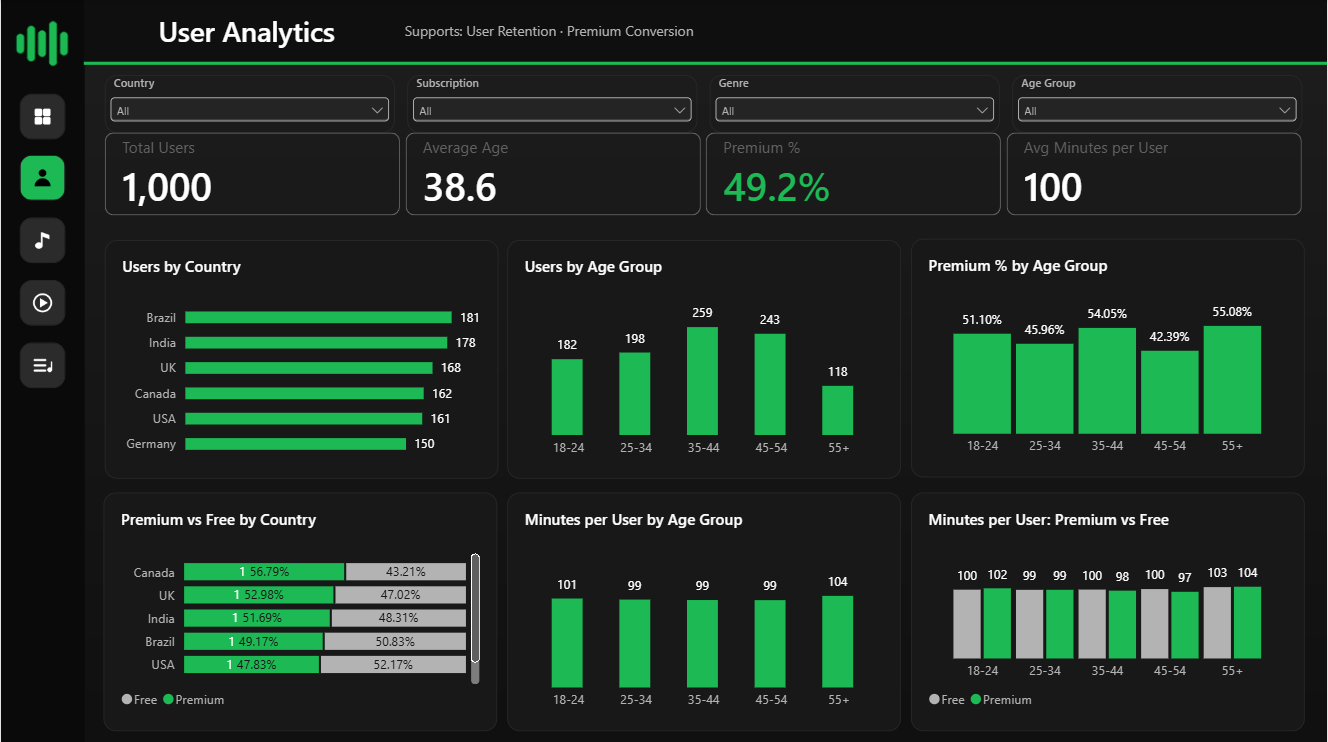

The dashboard page shown, as its layout file describes it:
{"tool":"powerbi","page":{"name":"User Analytics","canvas":[1280,720],"ordinal":1},"visuals":[{"type":"textbox","box":[100.1,12.1,273.9,42.2],"z":0},{"type":"textbox","box":[390,20,700,28],"z":1000},{"type":"actionButton","box":[18,150,44,44],"z":2000},{"type":"actionButton","box":[18.1,210,44,44],"z":3000},{"type":"actionButton","box":[18,270,44,44],"z":4000},{"type":"actionButton","box":[18,330,44,44],"z":5000},{"type":"actionButton","box":[18,90,44,44],"z":6000},{"type":"slicer","title":"Country","fields":{"Values":["Users.Country"]},"box":[100,72,280,56],"z":7000},{"type":"slicer","title":"Subscription","fields":{"Values":["Users.Subscription"]},"box":[392,72,280,56],"z":8000},{"type":"slicer","title":"Age Group","fields":{"Values":["Users.Age"]},"box":[976,72,280,56],"z":9000},{"type":"slicer","title":"Country","fields":{"Values":["Artists.Genre"]},"box":[684,72,280,56],"z":10000},{"type":"cardVisual","fields":{"Data":["Artists.Total Users","Users.Average Age","Artists.Premium %","Users.Avg Minutes per User"]},"box":[100.1,127.9,1158.2,80],"z":11000},{"type":"clusteredColumnChart","title":"Users by Age Group","fields":{"Category":["Users.Age Group"],"Y":["Artists.Total Users"]},"box":[488.6,231.6,380,230],"z":12000},{"type":"clusteredBarChart","title":"Users by Country","fields":{"Category":["Users.Country"],"Y":["Artists.Total Users"]},"box":[100.1,232,380,230],"z":13000},{"type":"clusteredColumnChart","title":"Premium % by Age Group","fields":{"Category":["Users.Age Group"],"Y":["Artists.Premium %"]},"box":[878.3,230.4,380,230],"z":14000},{"type":"hundredPercentStackedBarChart","title":"Premium vs Free by Country","fields":{"Category":["Users.Country"],"Series":["Users.Subscription"],"Y":["Artists.Premium %"]},"box":[98.9,475.3,380,230],"z":15000},{"type":"clusteredColumnChart","title":"Minutes per User by Age Group","fields":{"Category":["Users.Age Group"],"Y":["Artists.Min per User"]},"box":[488.6,475.3,380,230],"z":16000},{"type":"clusteredColumnChart","title":"Minutes per User: Premium vs Free","fields":{"Category":["Users.Age Group"],"Series":["Users.Subscription"],"Y":["Artists.Min per User"]},"box":[878.3,475.3,380,230],"z":17000},{"type":"image","box":[9.6,12.3,60.4,60],"z":18000}]}

Visuals, with their boxes on the page's 1280x720 design canvas (x1, y1, x2, y2). These are canvas units, not pixel positions in the 1328x742 screenshot, which may show the page scaled, cropped or inside an application window:
textbox: 100,12,374,54
textbox: 390,20,1090,48
actionButton: 18,150,62,194
actionButton: 18,210,62,254
actionButton: 18,270,62,314
actionButton: 18,330,62,374
actionButton: 18,90,62,134
"Country" slicer: 100,72,380,128
"Subscription" slicer: 392,72,672,128
"Age Group" slicer: 976,72,1256,128
"Country" slicer: 684,72,964,128
cardVisual - Artists.Total Users x Users.Average Age: 100,128,1258,208
"Users by Age Group" clusteredColumnChart: 489,232,869,462
"Users by Country" clusteredBarChart: 100,232,480,462
"Premium % by Age Group" clusteredColumnChart: 878,230,1258,460
"Premium vs Free by Country" hundredPercentStackedBarChart: 99,475,479,705
"Minutes per User by Age Group" clusteredColumnChart: 489,475,869,705
"Minutes per User: Premium vs Free" clusteredColumnChart: 878,475,1258,705
image: 10,12,70,72
